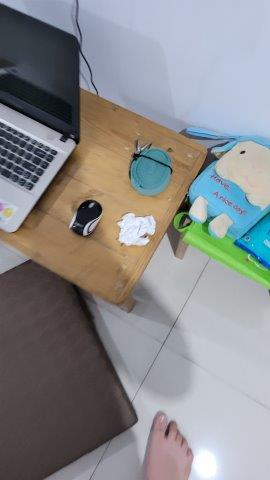kertas: (119, 214, 156, 247)
